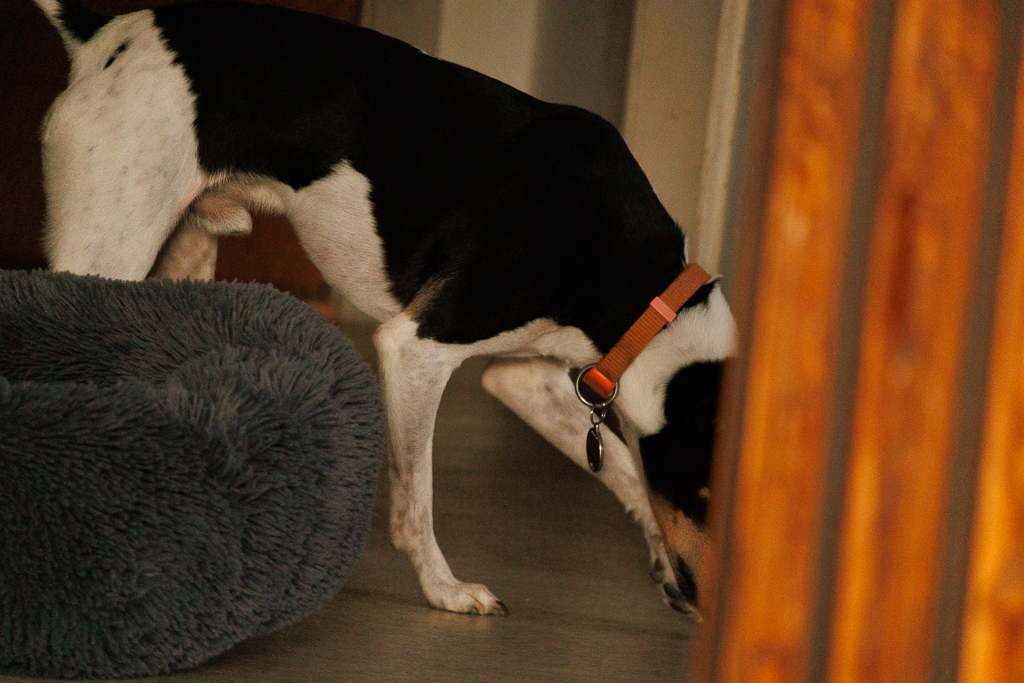Dog: (21, 0, 764, 636)
